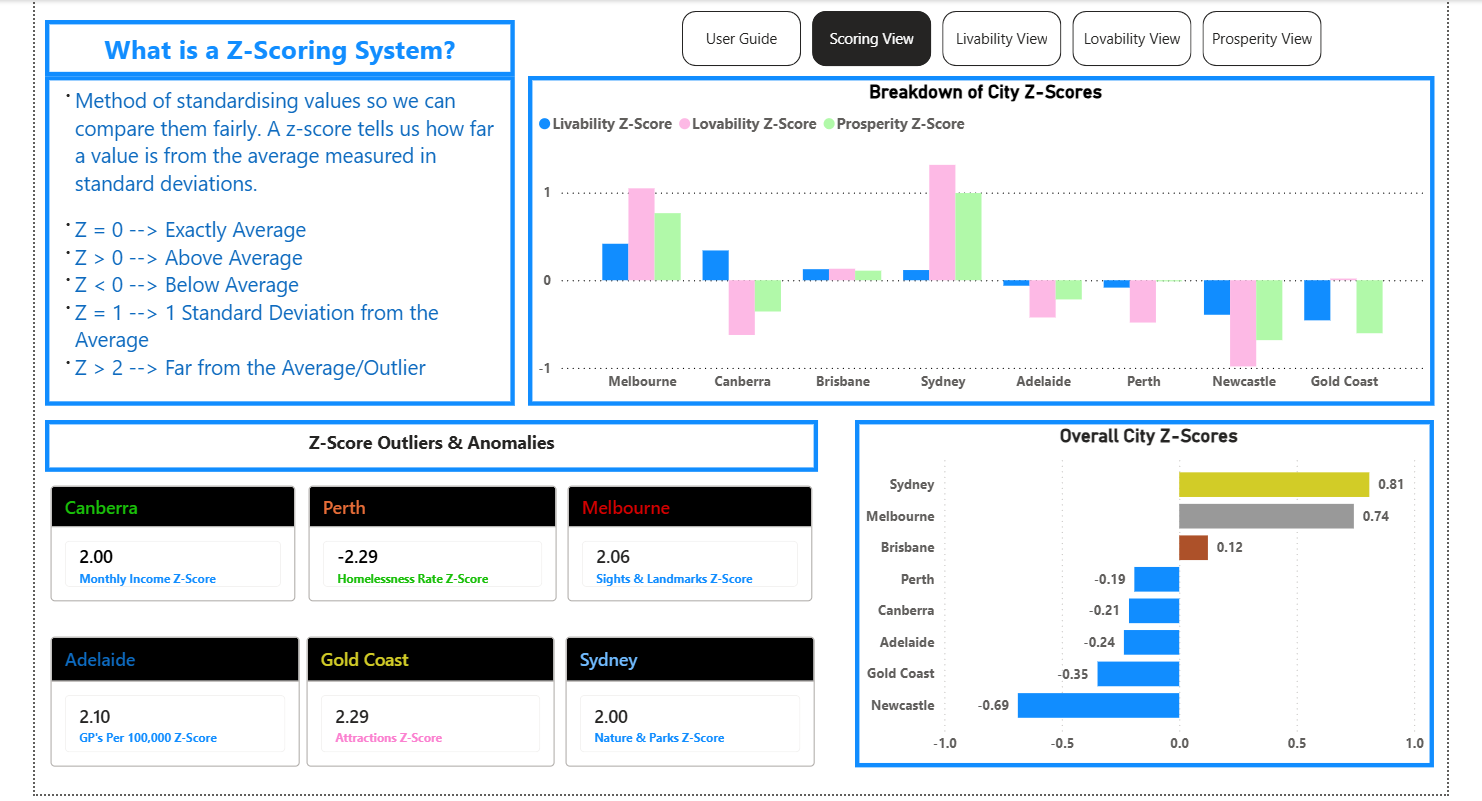

What the dashboard file says about the page in this screenshot:
{"tool":"powerbi","page":{"name":"Scoring View","canvas":[1280,720],"ordinal":1},"visuals":[{"type":"cardVisual","fields":{"Data":["Sum(Livability_Z_Score_Table.GP's PER 100,000 RESIDENTS Z-SCORE)"],"Rows":["Cities_Table.CITY NAME"]},"box":[9,552,236,168],"z":0},{"type":"cardVisual","fields":{"Data":["Sum(Livability_Z_Score_Table.SIGHTS & LANDMARKS Z-SCORE)"],"Rows":["Cities_Table.CITY NAME"]},"box":[478,415,232,155],"z":1000},{"type":"cardVisual","fields":{"Data":["Sum(Livability_Z_Score_Table.NATURE & PARKS Z-SCORE)"],"Rows":["Cities_Table.CITY NAME"]},"box":[476,552,236,168],"z":2000},{"type":"cardVisual","fields":{"Data":["Sum(Livability_Z_Score_Table.MEDIAN MONTHLY HOUSEHOLD INCOME Z-SCORE)"],"Rows":["Cities_Table.CITY NAME"]},"box":[9,415,232,155],"z":3000},{"type":"cardVisual","fields":{"Data":["Sum(Lovability_Z_Score_Table.ATTRACTIONS Z-SCORE)"],"Rows":["Cities_Table.CITY NAME"]},"box":[241,552,235,168],"z":4000},{"type":"cardVisual","fields":{"Rows":["Cities_Table.CITY NAME"],"Data":["Sum(Prosperity_Z_Score_Table.HOMELESS RATE Z-SCORE)"]},"box":[243,415,235,155],"z":5000},{"type":"clusteredColumnChart","title":"Breakdown of City Z-Scores","fields":{"Y":["Sum(Overall_Z_Score_Table.LIVABILITY Z-SCORE)","Sum(Overall_Z_Score_Table.LOVABILITY Z-SCORE)","Sum(Overall_Z_Score_Table.PROSPERITY Z-SCORE)"],"Category":["Cities_Table.CITY NAME"]},"box":[447,69,822,299],"z":6000},{"type":"barChart","title":"Overall City Z-Scores","fields":{"Category":["Cities_Table.CITY NAME"],"Y":["Sum(Overall_Z_Score_Table.OVERALL CITY Z-SCORE)"]},"box":[744,381,525,315],"z":7000},{"type":"pageNavigator","box":[587,10,582,50],"z":8000},{"type":"textbox","box":[9,381,701,47],"z":9000},{"type":"textbox","box":[9,69,426,299],"z":10000},{"type":"textbox","box":[9,18,426,51],"z":11000}]}

Visuals, with their boxes in screenshot pixels (x1, y1, x2, y2):
cardVisual - Sum(Livability_Z_Score_Table.GP's PER 100,000 RESIDENTS Z-SCORE) x Cities_Table.CITY NAME: {"left": 41, "top": 607, "right": 300, "bottom": 792}
cardVisual - Sum(Livability_Z_Score_Table.SIGHTS & LANDMARKS Z-SCORE) x Cities_Table.CITY NAME: {"left": 556, "top": 456, "right": 812, "bottom": 627}
cardVisual - Sum(Livability_Z_Score_Table.NATURE & PARKS Z-SCORE) x Cities_Table.CITY NAME: {"left": 554, "top": 607, "right": 814, "bottom": 792}
cardVisual - Sum(Livability_Z_Score_Table.MEDIAN MONTHLY HOUSEHOLD INCOME Z-SCORE) x Cities_Table.CITY NAME: {"left": 41, "top": 456, "right": 296, "bottom": 627}
cardVisual - Sum(Lovability_Z_Score_Table.ATTRACTIONS Z-SCORE) x Cities_Table.CITY NAME: {"left": 296, "top": 607, "right": 554, "bottom": 792}
cardVisual - Cities_Table.CITY NAME x Sum(Prosperity_Z_Score_Table.HOMELESS RATE Z-SCORE): {"left": 298, "top": 456, "right": 556, "bottom": 627}
"Breakdown of City Z-Scores" clusteredColumnChart: {"left": 522, "top": 76, "right": 1426, "bottom": 405}
"Overall City Z-Scores" barChart: {"left": 849, "top": 419, "right": 1426, "bottom": 765}
pageNavigator: {"left": 676, "top": 11, "right": 1316, "bottom": 66}
textbox: {"left": 41, "top": 419, "right": 812, "bottom": 471}
textbox: {"left": 41, "top": 76, "right": 509, "bottom": 405}
textbox: {"left": 41, "top": 20, "right": 509, "bottom": 76}
